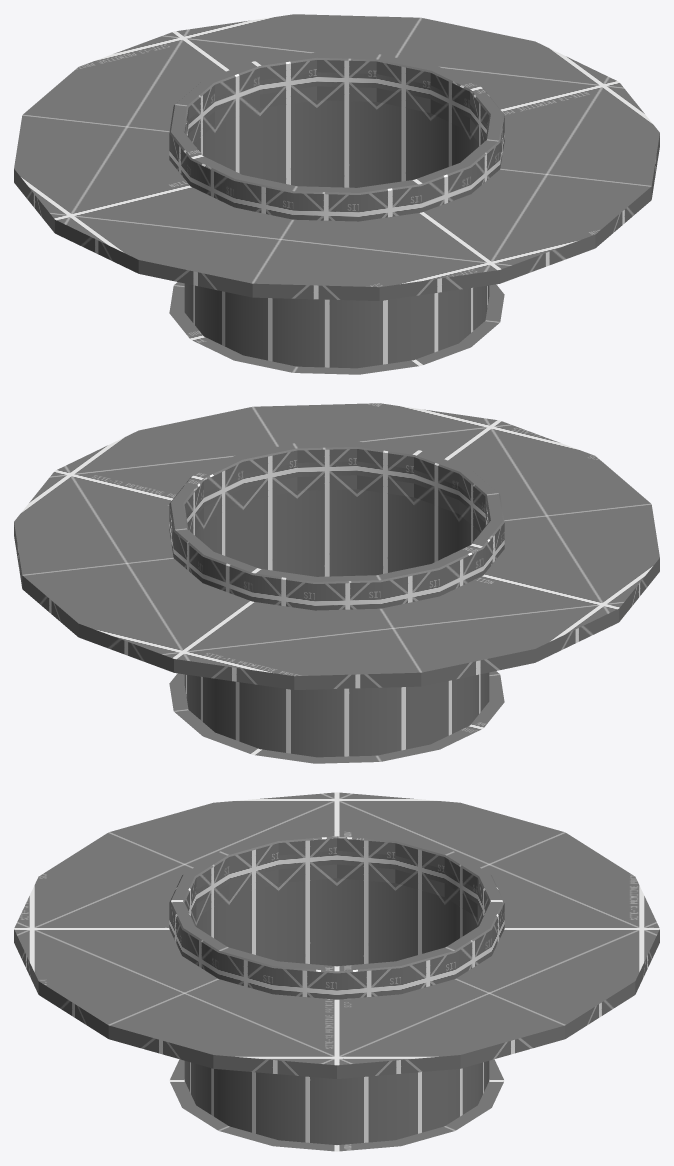
File: Stationary-Weapon-Pod.obj
3 views of the same model, one above another, from view 1: azimuth 30°, elevation 25°; view 2: azimuth 150°, elevation 25°; view 3: azimuth 270°, elevation 25° (orthographic).
Visible parts, largest first — view 1: Stationary-Weapon-Pod; view 2: Stationary-Weapon-Pod; view 3: Stationary-Weapon-Pod.
Part boxes in pixels (left/top/right/bottom): Stationary-Weapon-Pod: left=14, top=14, right=659, bottom=374; Stationary-Weapon-Pod: left=14, top=403, right=659, bottom=763; Stationary-Weapon-Pod: left=14, top=792, right=659, bottom=1151.
Bounding box in the file's own units: 2.12 × 0.65 × 2.12.
